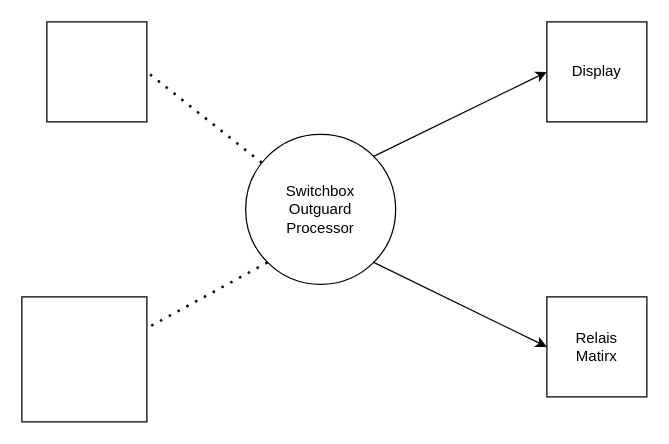
Some shapes in this 669 by 444 pixel diagram are drawn without their labels. The shapes that lost their labels are listed below. From the top down, each one's centre as x and y in pixels, then its label:
(96,71): Reset Button
(84,359): MET/CAL Communication
